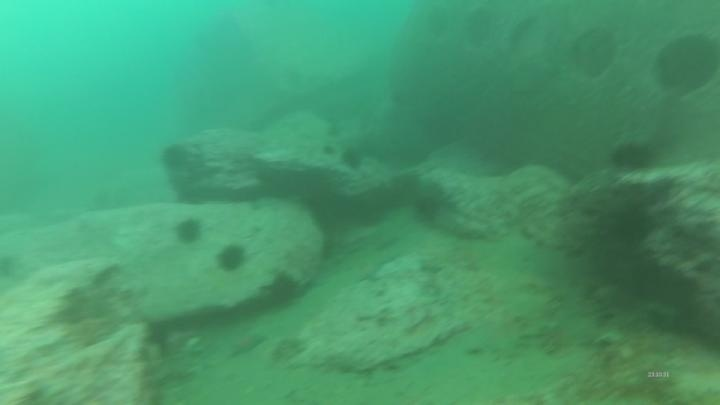echinus: (609, 191, 657, 237), (409, 178, 451, 226), (608, 138, 659, 175), (264, 270, 304, 310), (214, 241, 250, 276), (171, 215, 206, 248), (158, 141, 192, 174), (339, 144, 366, 173), (327, 123, 342, 138), (322, 144, 336, 154)
starfish: (224, 328, 269, 361)
